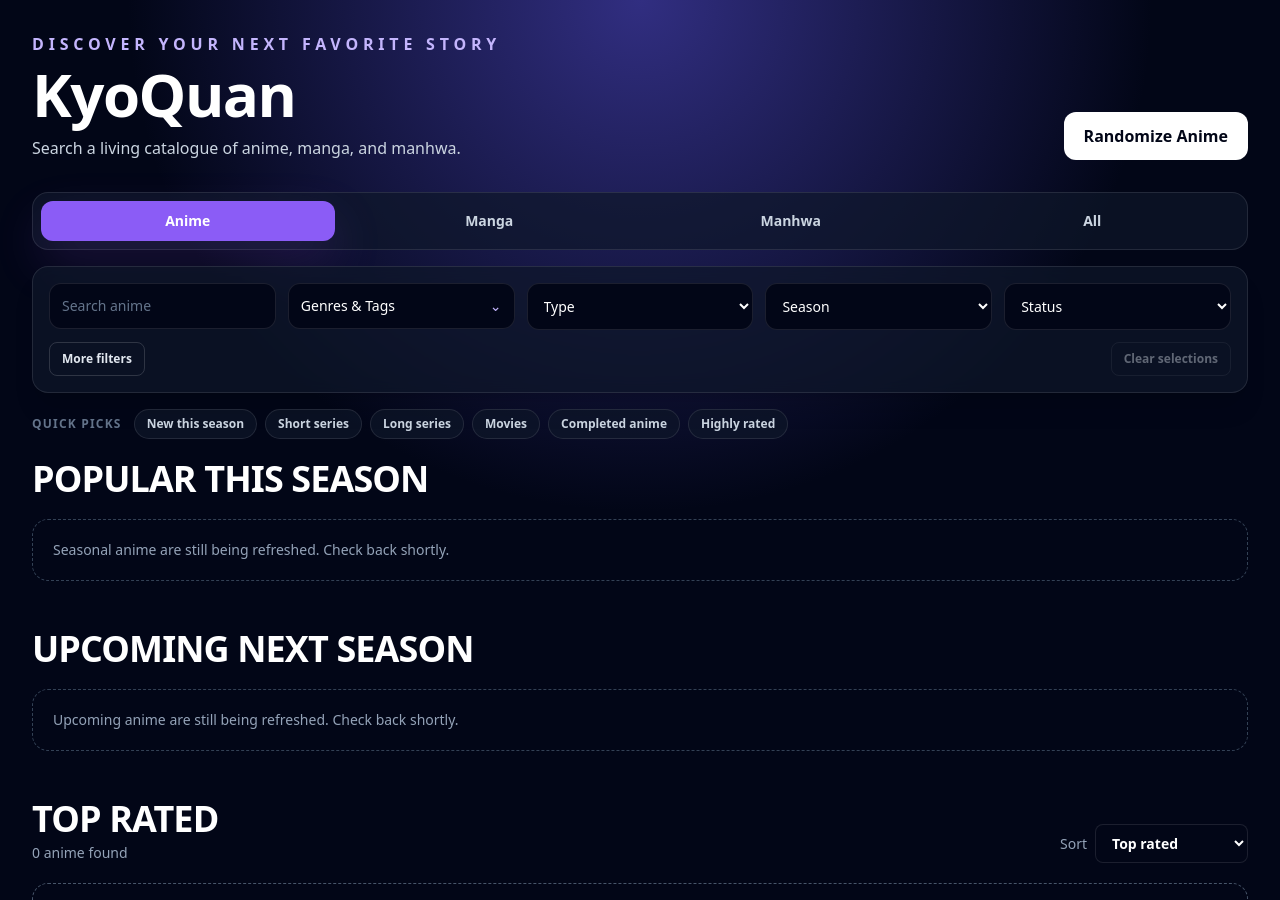
Test case: catalogue filter integration › Quick Picks disable presets that conflict with the active range
The image size is (1280, 900).
What coordinates should you click on to do the following:
click the button "Short series"
I would click on:
 (314, 424)
Its box is [265,409,362,439].
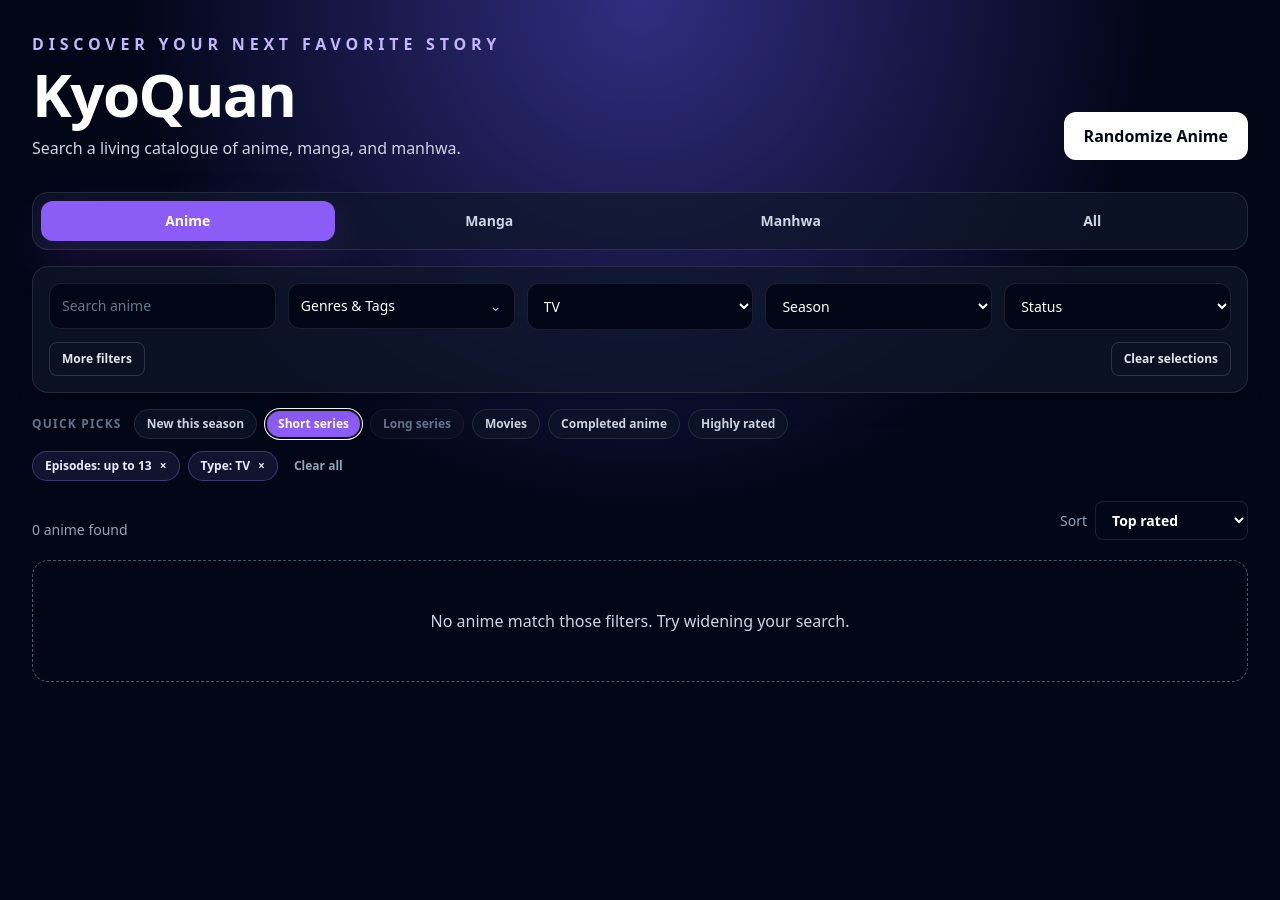
Now the button "Long series" is disabled, box [370,409,464,439]
